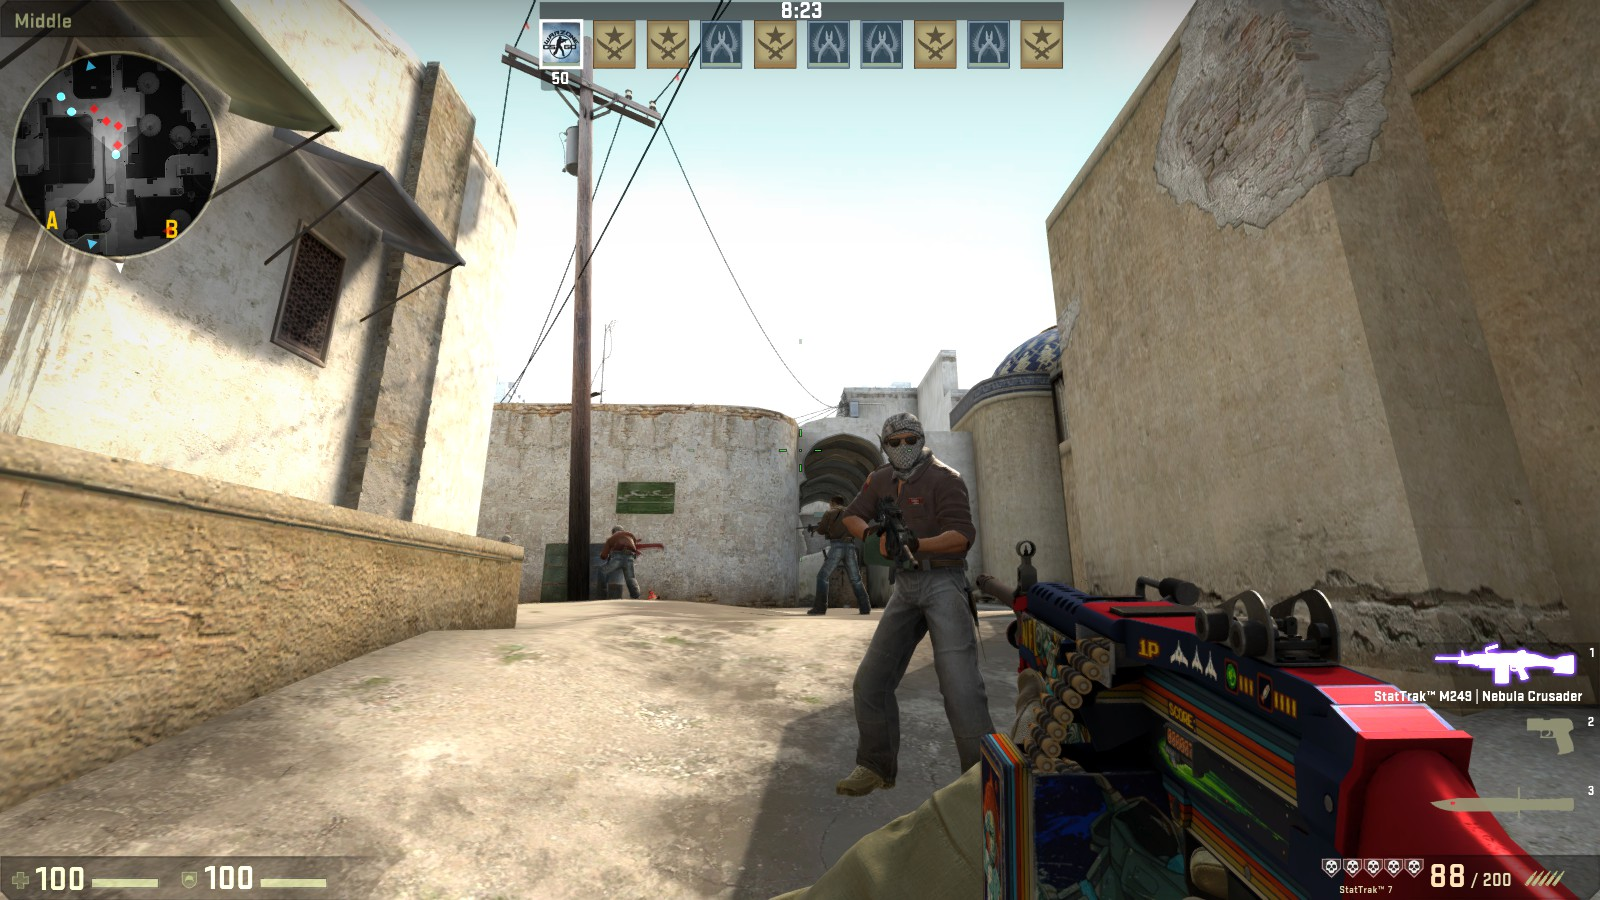t: (848, 404, 1002, 804), (808, 490, 871, 615), (605, 521, 638, 599)
th: (877, 408, 937, 480), (821, 492, 854, 516), (605, 524, 627, 538)
